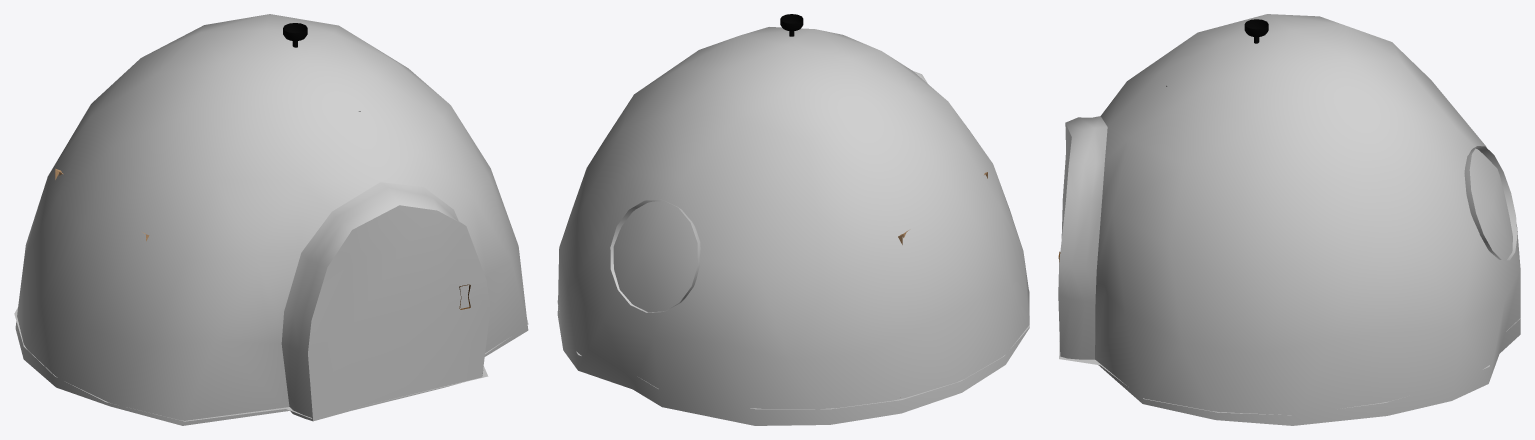
The model's file is casa das bolhas interna NOVA.FBX.
3 renders of one model, left to right at view 1: azimuth 30°, elevation 25°; view 2: azimuth 150°, elevation 25°; view 3: azimuth 270°, elevation 25°, orthographic. The views are drawn at different scales.
Visible parts, largest first — view 1: iglu interno01, chão; view 2: iglu interno01, árvore; view 3: iglu interno01, árvore, chão.
Boxes of the visible parts, bbox=[...] form: iglu interno01: bbox=[15, 14, 528, 425]; chão: bbox=[14, 307, 528, 421]; iglu interno01: bbox=[557, 27, 1029, 425]; árvore: bbox=[610, 199, 700, 312]; iglu interno01: bbox=[1058, 14, 1520, 425]; árvore: bbox=[1464, 146, 1517, 260]; chão: bbox=[1059, 318, 1520, 415].
Bounding box in the file's own units: 1404 × 1294 × 953.
